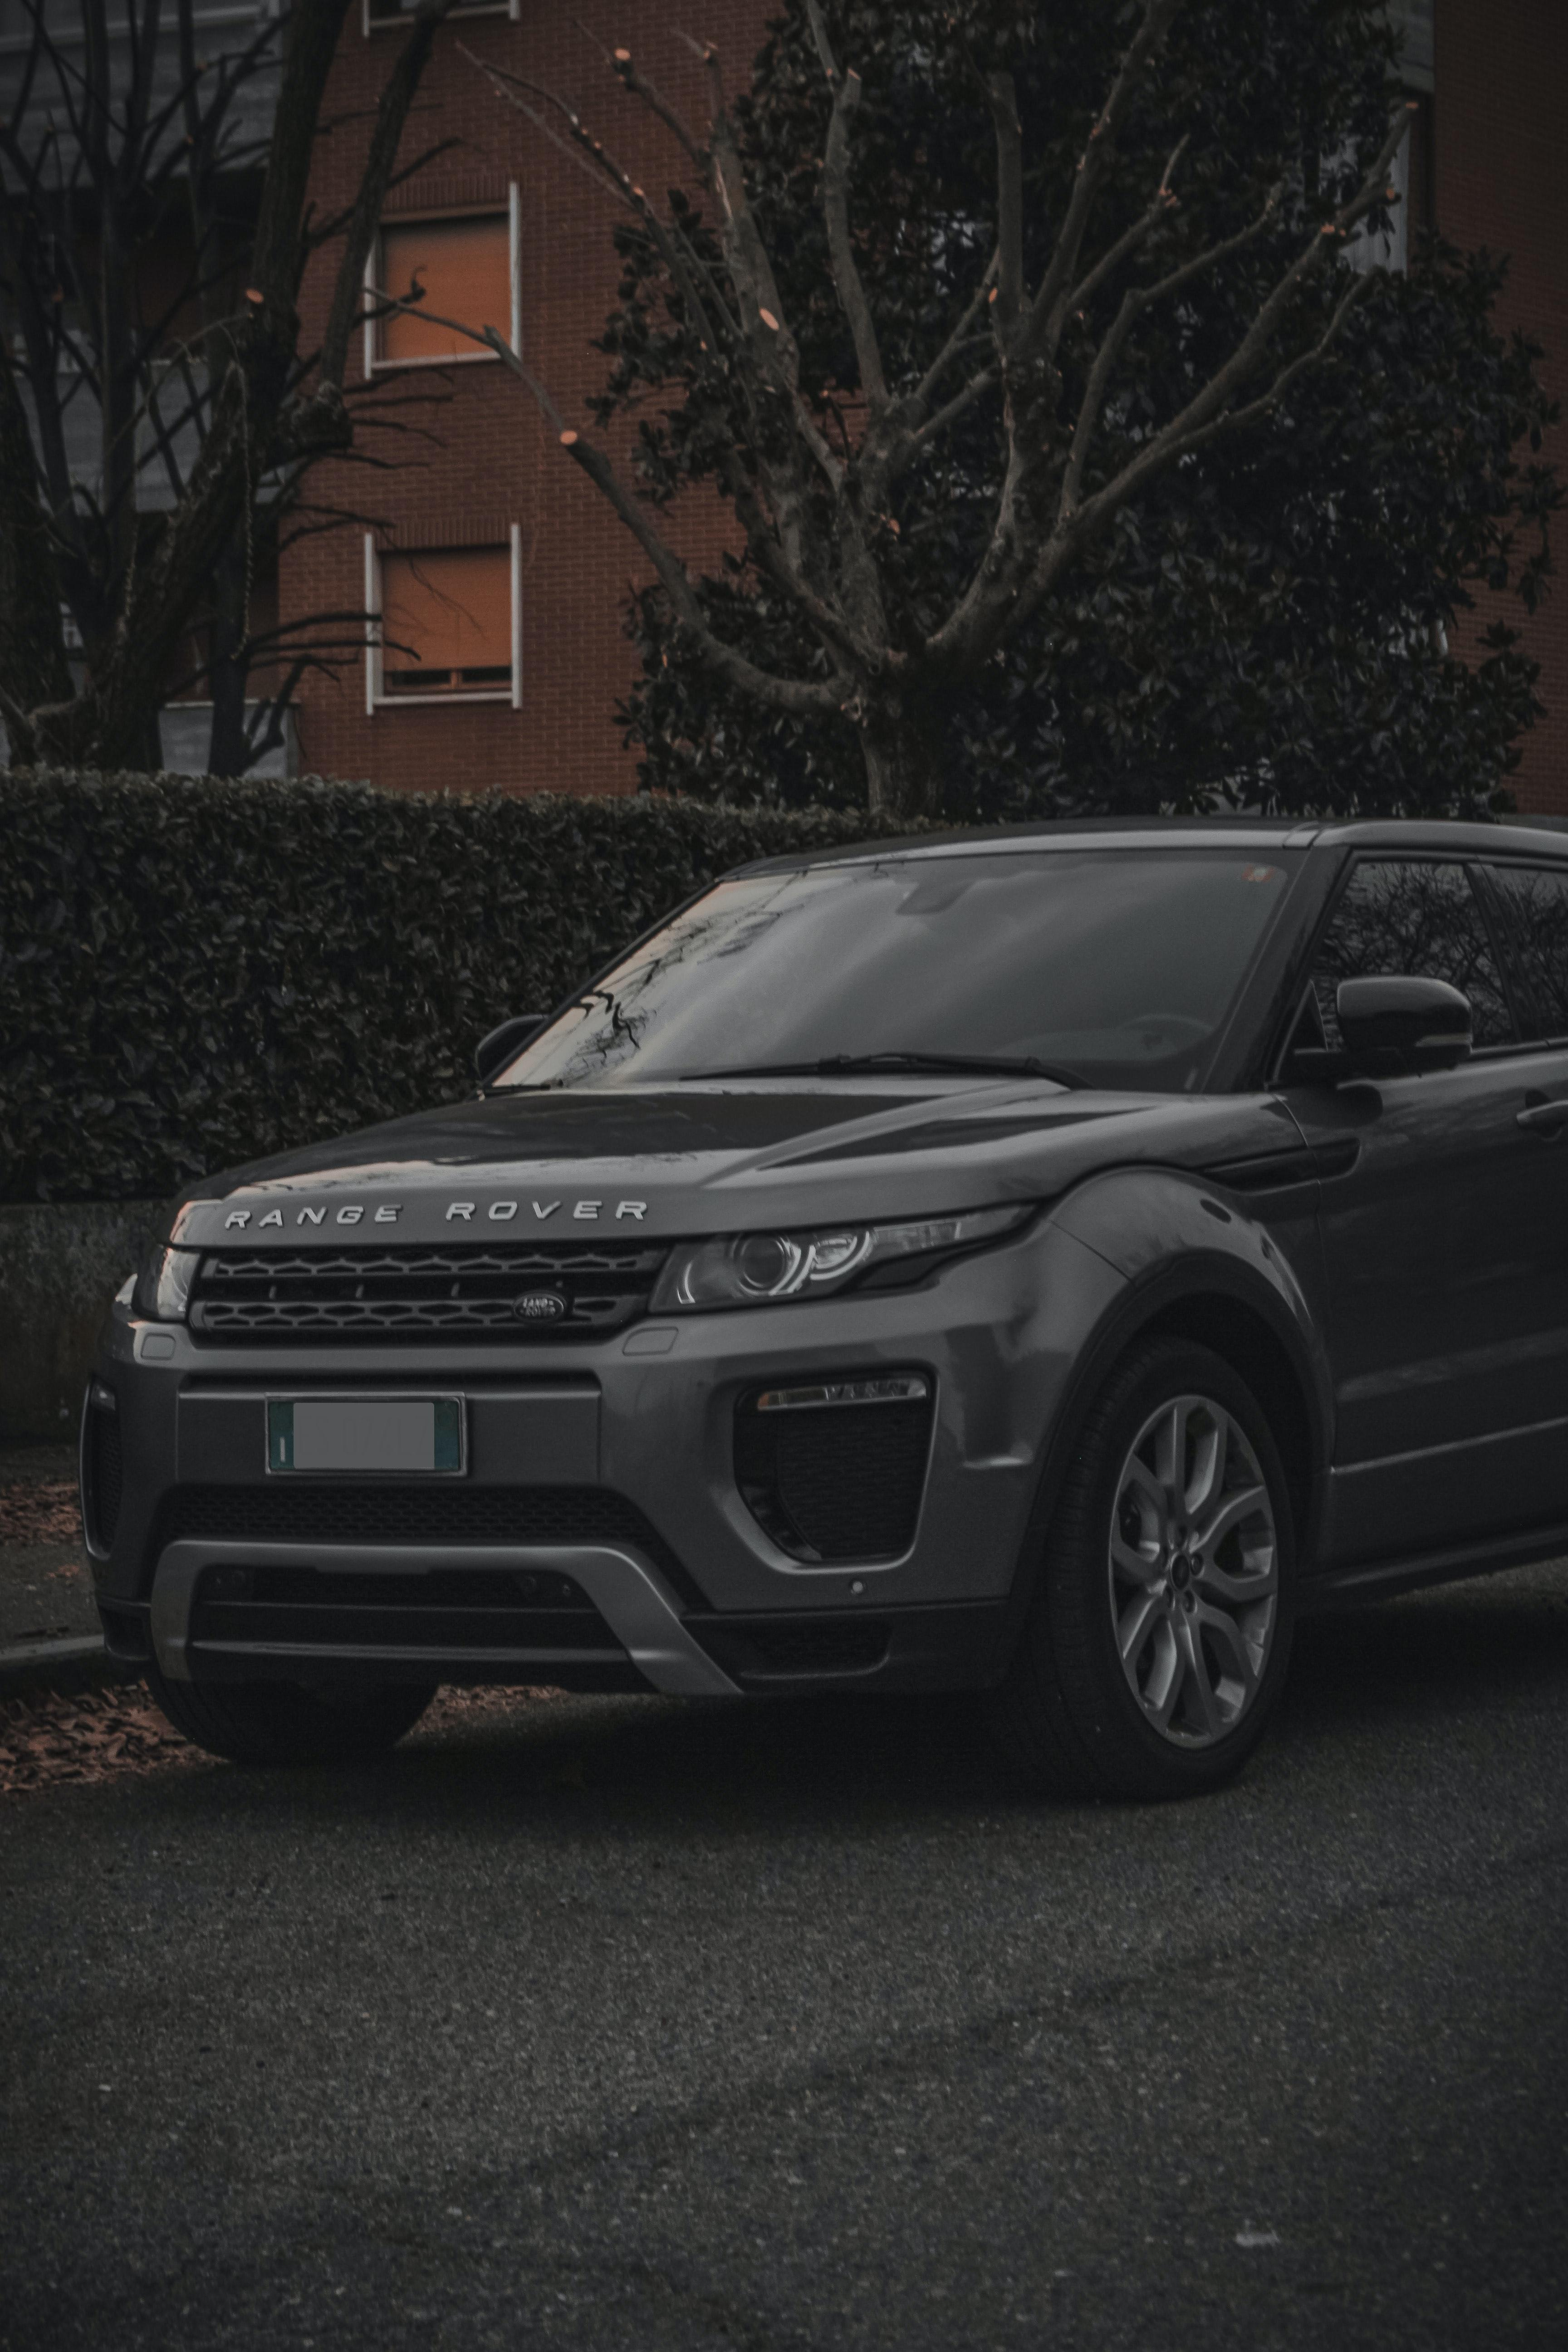range rover: (212, 1179, 670, 1256)
